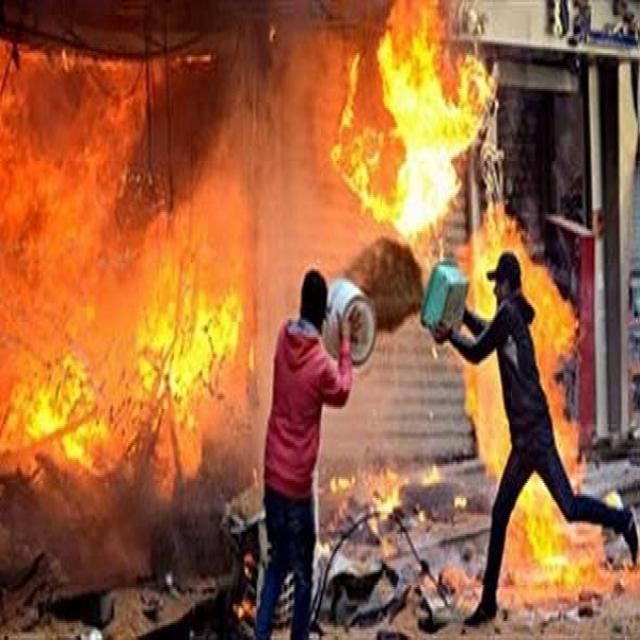Fire: (0, 47, 250, 489), (331, 32, 496, 250), (516, 239, 590, 456), (508, 489, 626, 593), (462, 354, 514, 485), (468, 178, 528, 280)
